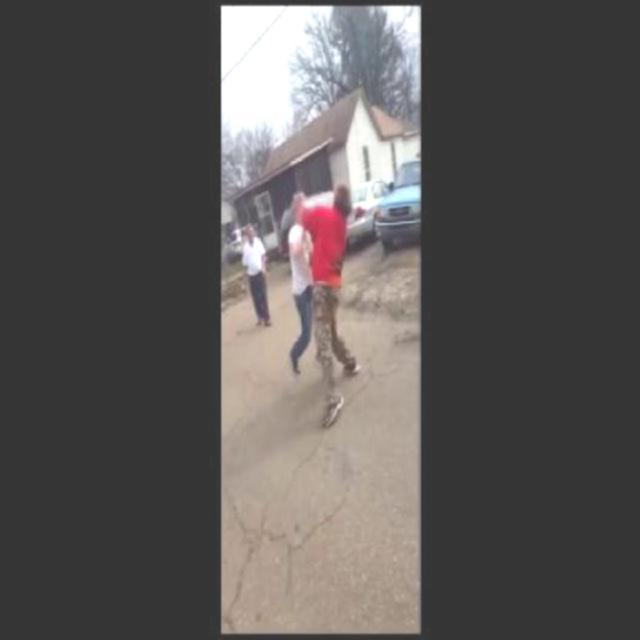fight: (288, 186, 360, 425)
